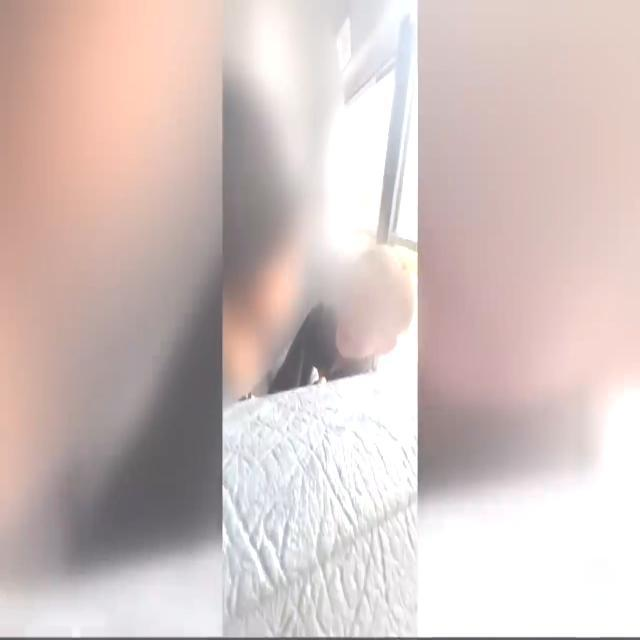fight: (170, 3, 415, 375)
